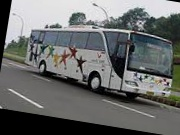bus: (21, 14, 179, 105)
